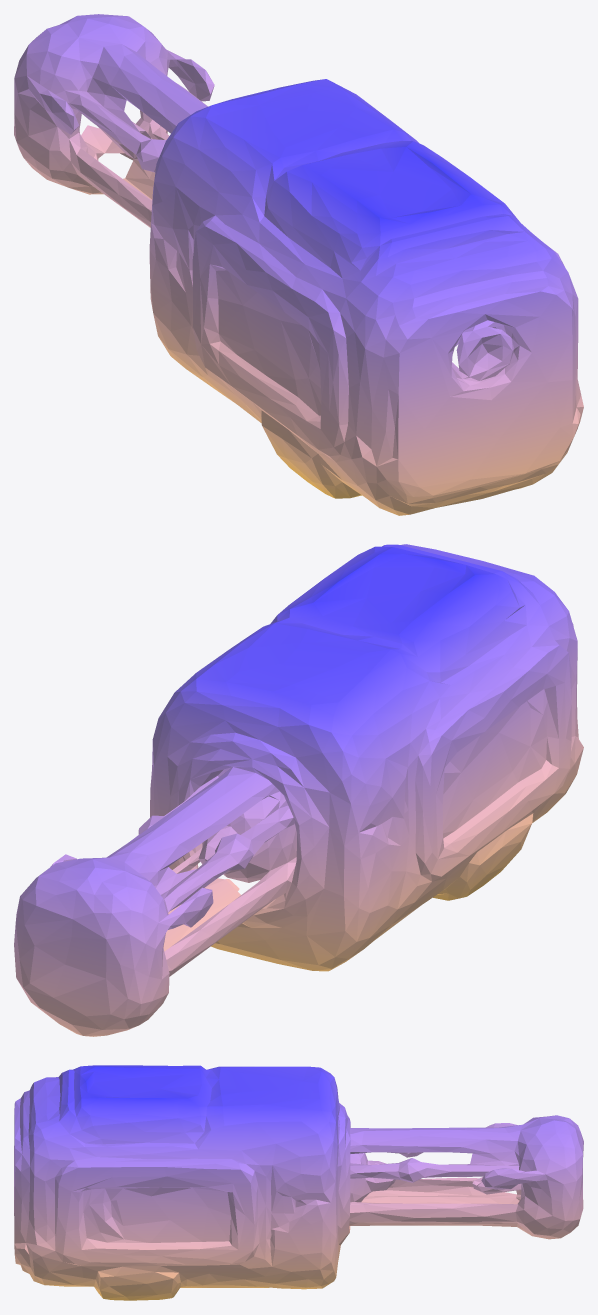
The model's file is 90_cyb_laser_gradient_fish_scales_2985_2026_10_03_040b85.glb.
3 views of the same model, one above another, from view 1: azimuth 30°, elevation 25°; view 2: azimuth 150°, elevation 25°; view 3: azimuth 270°, elevation 25° (orthographic). The views are drawn at different scales.
Parts seen in each view (by area): view 1: geometry_0; view 2: geometry_0; view 3: geometry_0.
Boxes of the visible parts, bbox=[...] form: geometry_0: bbox=[14, 14, 583, 515]; geometry_0: bbox=[14, 544, 583, 1036]; geometry_0: bbox=[14, 1065, 583, 1300].
Size of the model in its own units: 0.3312 by 0.3699 by 1.
